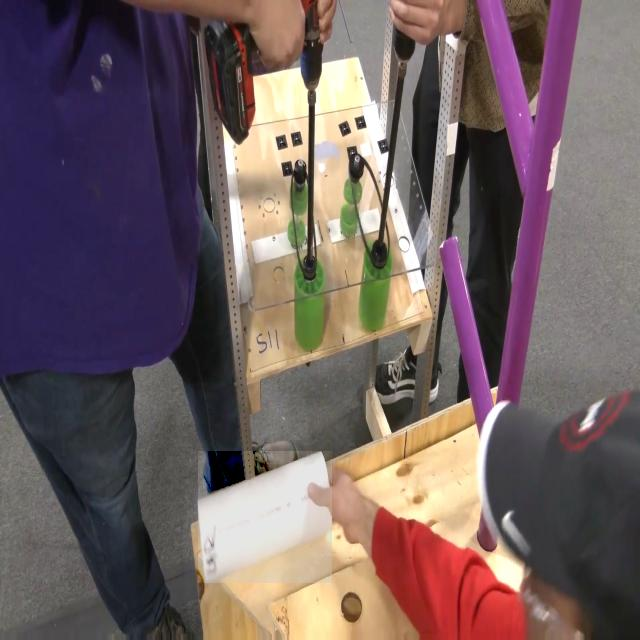Coral: (198, 451, 332, 583)
